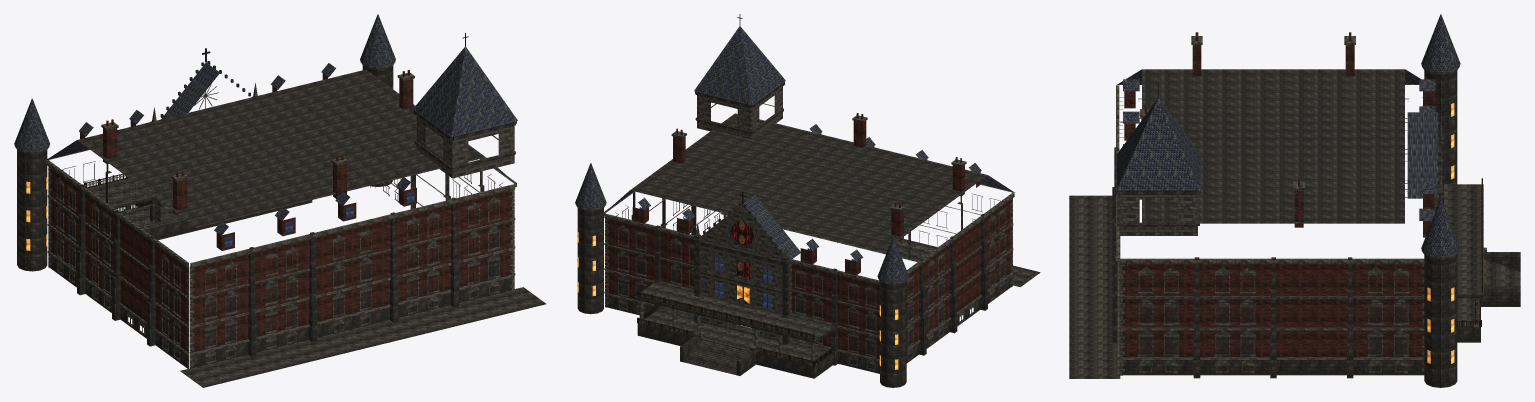
File: manor_ext.glb
The picture shows the model from 3 angles, left to right: view 1: azimuth 30°, elevation 25°; view 2: azimuth 150°, elevation 25°; view 3: azimuth 270°, elevation 25°; orthographic projection. The views are drawn at different scales.
Parts seen in each view (by area): view 1: manor_ext; view 2: manor_ext; view 3: manor_ext.
Part boxes in pixels (x1,y1,x2,y2): manor_ext: (14,14,546,387); manor_ext: (575,14,1040,387); manor_ext: (1069,14,1520,387).
Bounding box in the file's own units: 74.6 × 47.7 × 70.7.
11 materials, 11 textured.
